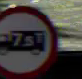Heavy Vehicles: (0, 2, 59, 78)
